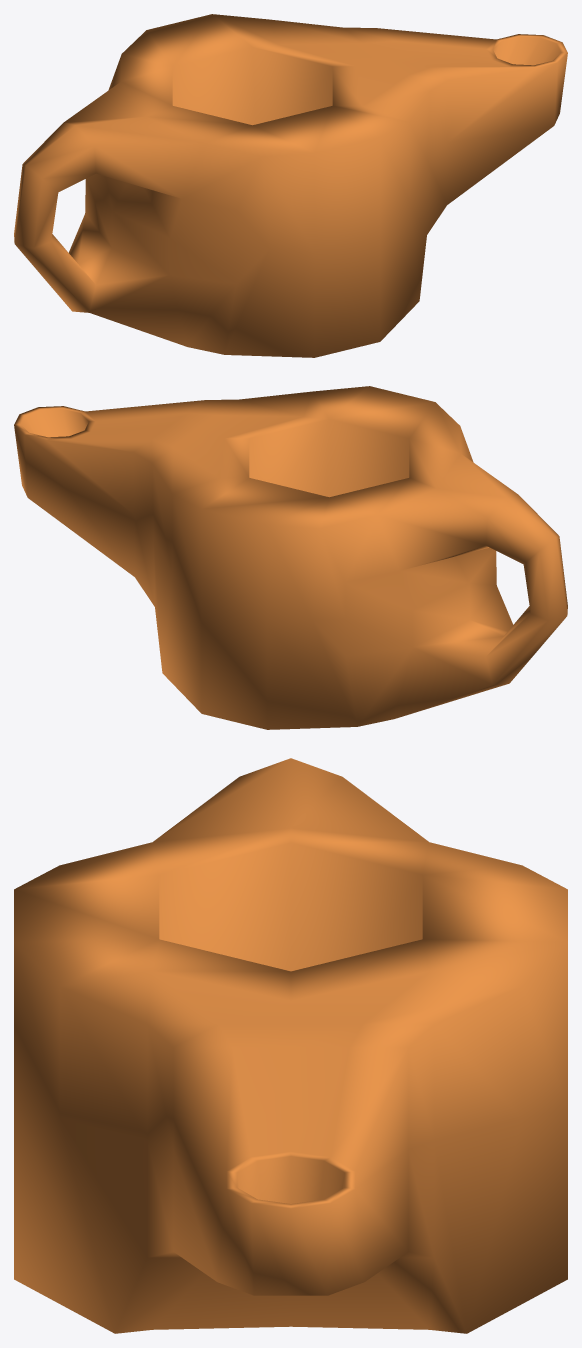
The model's file is Oil Lamp.fbx.
3 renders of one model, top to bottom at view 1: azimuth 30°, elevation 25°; view 2: azimuth 150°, elevation 25°; view 3: azimuth 270°, elevation 25°, orthographic. The views are drawn at different scales.
Parts seen in each view (by area): view 1: Cube; view 2: Cube; view 3: Cube.
Boxes of the visible parts, x1,y1,x2,y2 form: Cube: [14, 14, 567, 357]; Cube: [14, 386, 567, 729]; Cube: [14, 758, 567, 1333].
Size of the model in its own units: 42.39 by 15.43 by 22.53.
